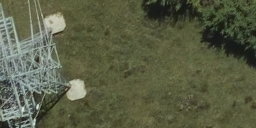TT: (1, 8, 72, 128)
